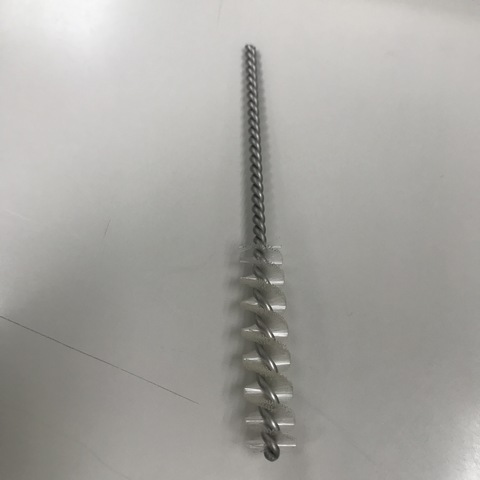Twist Brush-B: (221, 37, 301, 470)
